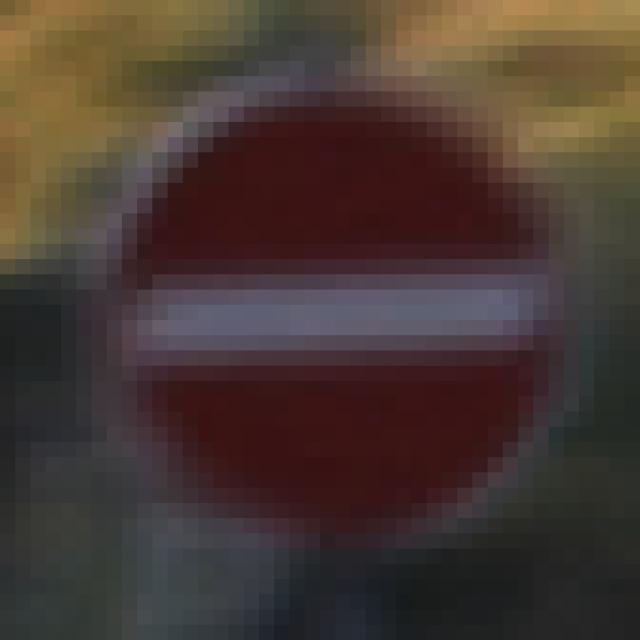No Entry: (92, 77, 565, 565)
